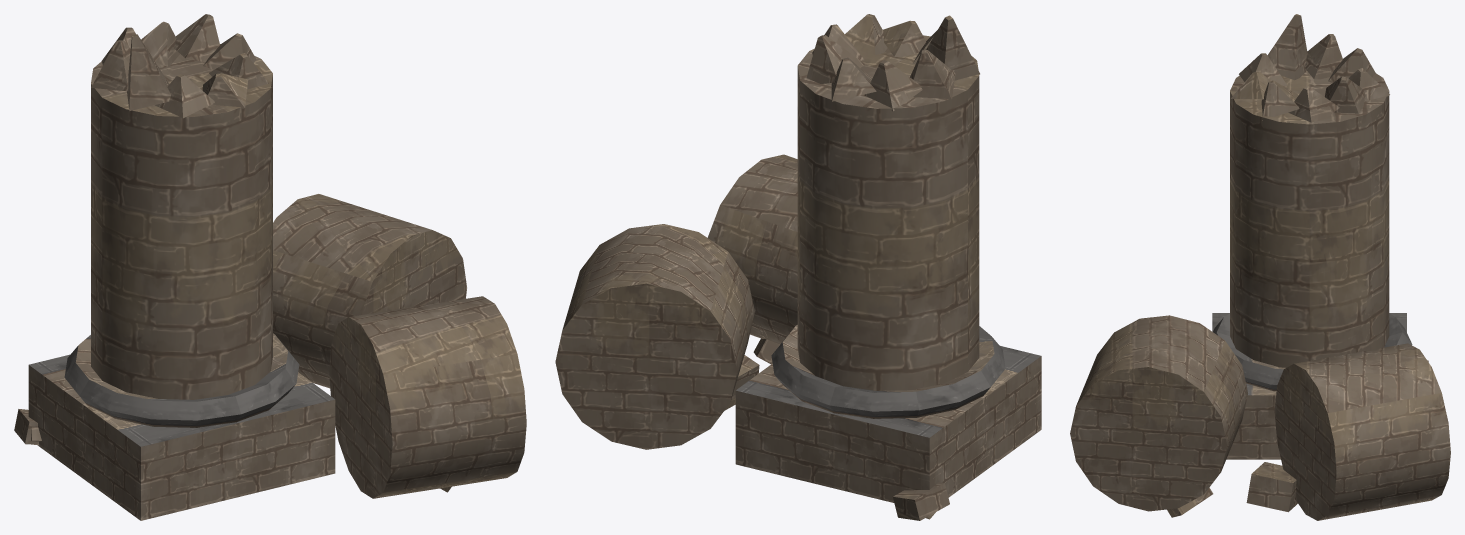
File: broken_pillar.glb
3 views of the same model, side by side, from view 1: azimuth 30°, elevation 25°; view 2: azimuth 150°, elevation 25°; view 3: azimuth 270°, elevation 25° (orthographic). The views are drawn at different scales.
Visible parts, largest first — view 1: broken_pillar; view 2: broken_pillar; view 3: broken_pillar.
Part boxes in pixels (bbox=[...]): broken_pillar: bbox=[14, 14, 526, 520]; broken_pillar: bbox=[555, 14, 1041, 520]; broken_pillar: bbox=[1070, 14, 1450, 520].
Size of the model in its own units: 2.32 by 2.5 by 2.15.
Materials: 2 (2 with a texture image).
